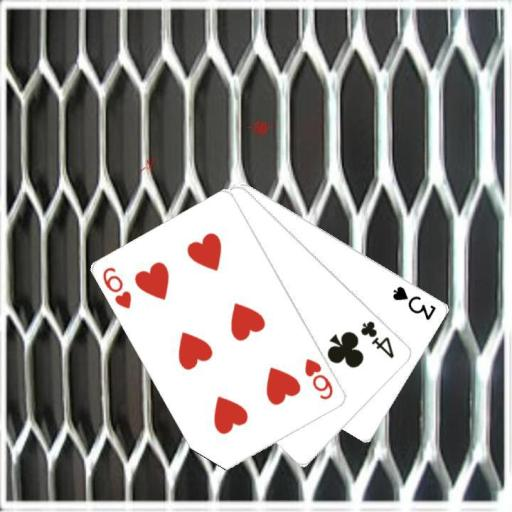3S: (390, 283, 438, 322)
4C: (357, 317, 396, 360)
6H: (100, 264, 134, 311), (301, 356, 335, 402)
